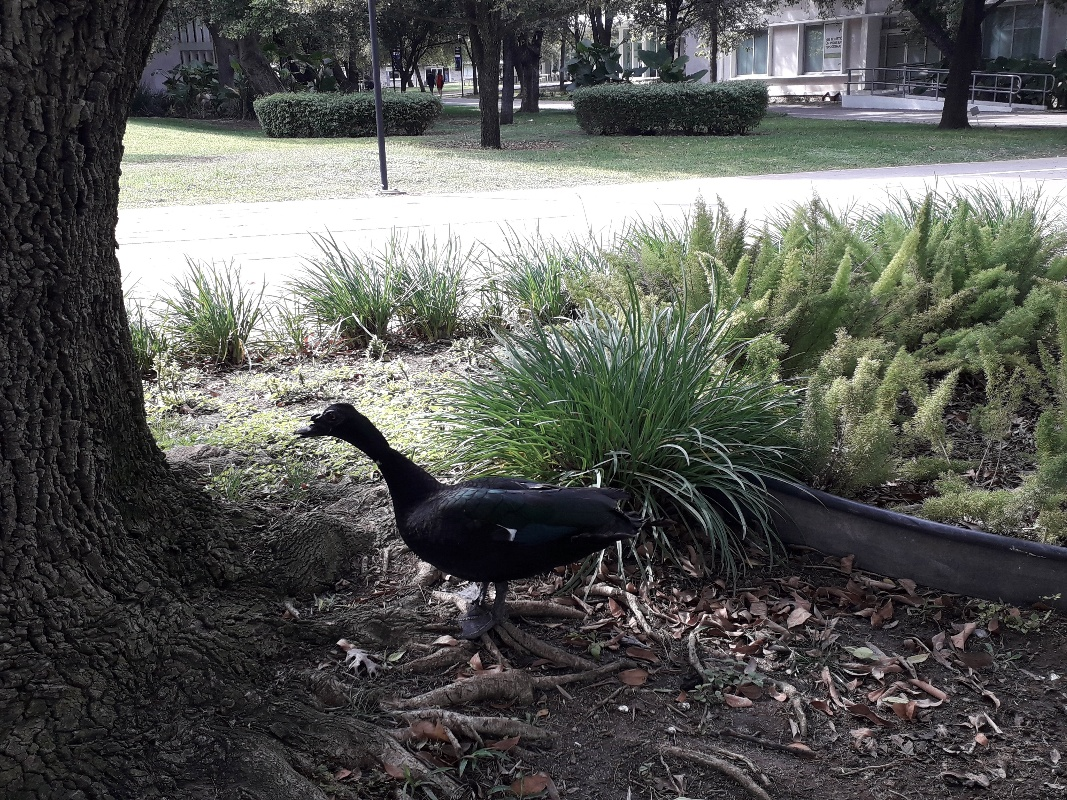pato: (302, 400, 630, 597)
